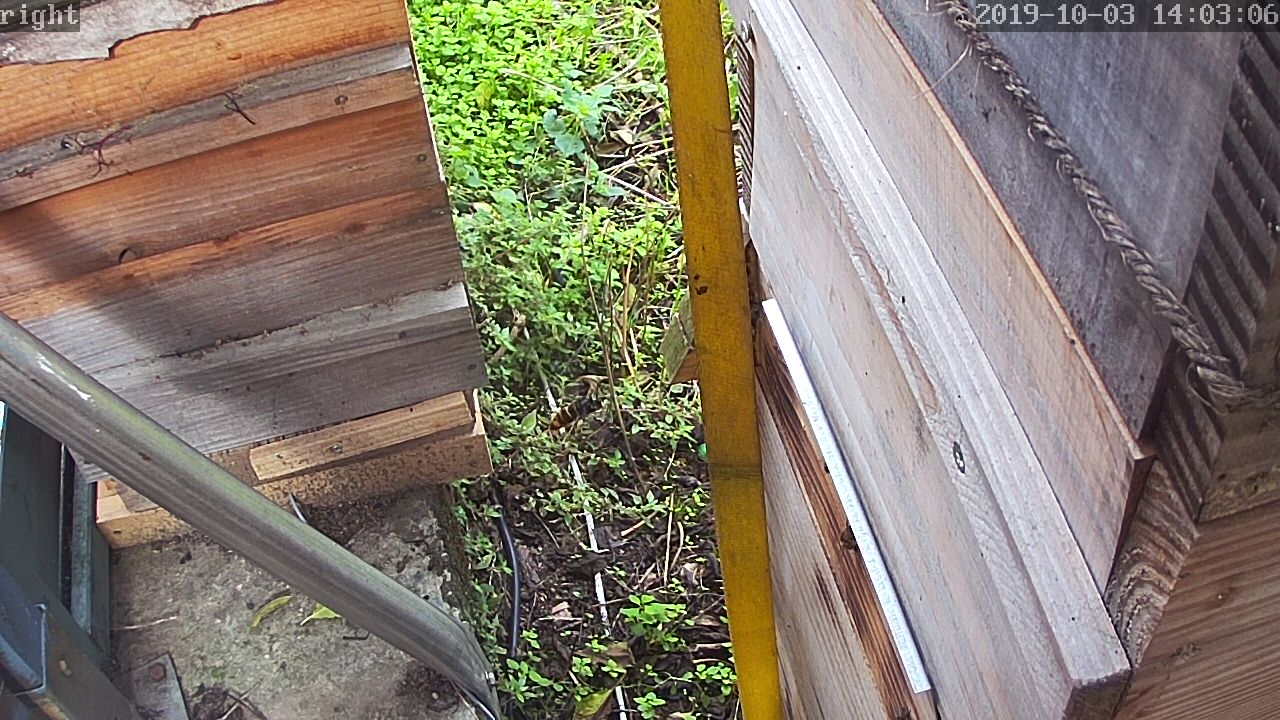bee: (832, 521, 863, 553)
hornet: (549, 384, 598, 437)
